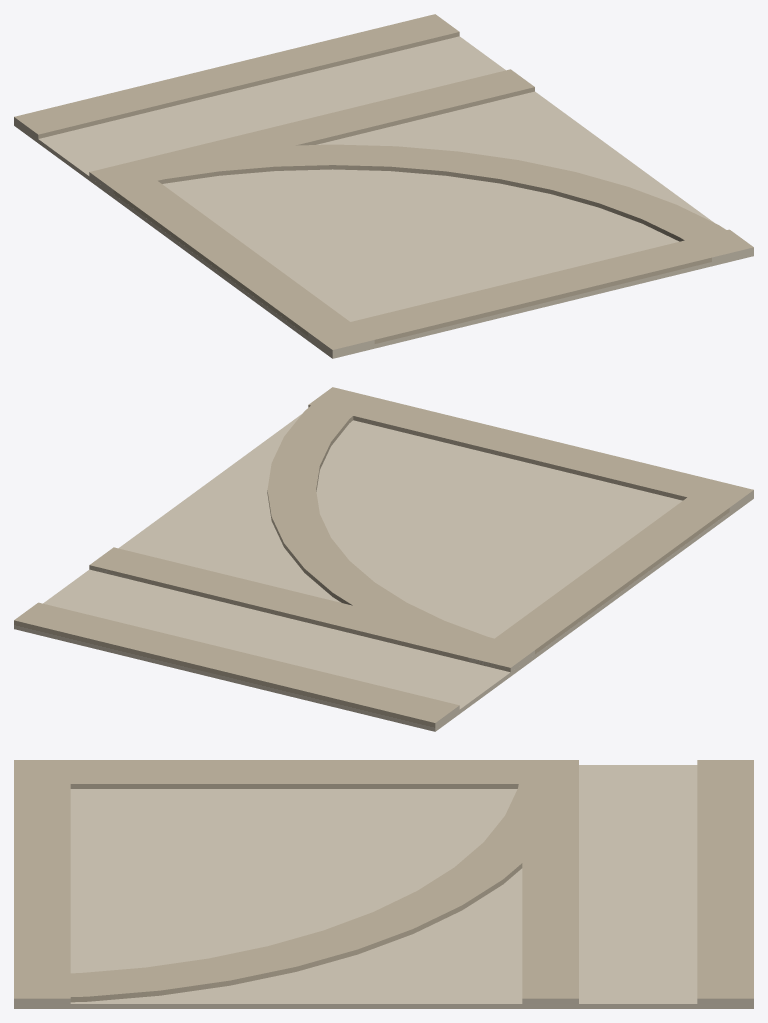
File: roads.glb
3 renders of one model, top to bottom at view 1: azimuth 30°, elevation 25°; view 2: azimuth 150°, elevation 25°; view 3: azimuth 270°, elevation 25°, orthographic. The views are drawn at different scales.
Parts seen in each view (by area): view 1: road-crossroad, road-side, road-straight, road-end, road-bend, road-intersection; view 2: road-straight, road-side, road-intersection, road-bend, road-end, road-crossroad; view 3: road-straight, road-end, road-side, road-bend, road-crossroad, road-intersection.
Boxes of the visible parts, x1=… form: road-crossroad: x1=91, y1=69, x2=751, y2=347; road-side: x1=14, y1=14, x2=711, y2=358; road-straight: x1=90, y1=69, x2=752, y2=349; road-end: x1=91, y1=92, x2=752, y2=349; road-bend: x1=90, y1=144, x2=751, y2=349; road-intersection: x1=89, y1=70, x2=753, y2=358; road-straight: x1=89, y1=387, x2=750, y2=671; road-side: x1=14, y1=405, x2=753, y2=731; road-intersection: x1=90, y1=388, x2=753, y2=671; road-bend: x1=267, y1=387, x2=751, y2=667; road-end: x1=121, y1=388, x2=740, y2=654; road-crossroad: x1=89, y1=388, x2=733, y2=671; road-straight: x1=14, y1=760, x2=578, y2=1003; road-end: x1=14, y1=760, x2=577, y2=1003; road-side: x1=14, y1=760, x2=753, y2=1008; road-bend: x1=14, y1=760, x2=578, y2=1002; road-crossroad: x1=14, y1=760, x2=578, y2=1003; road-intersection: x1=14, y1=760, x2=578, y2=1003.
Size of the model in its own units: 1 by 0.02 by 1.31.
1 material, 1 textured.
